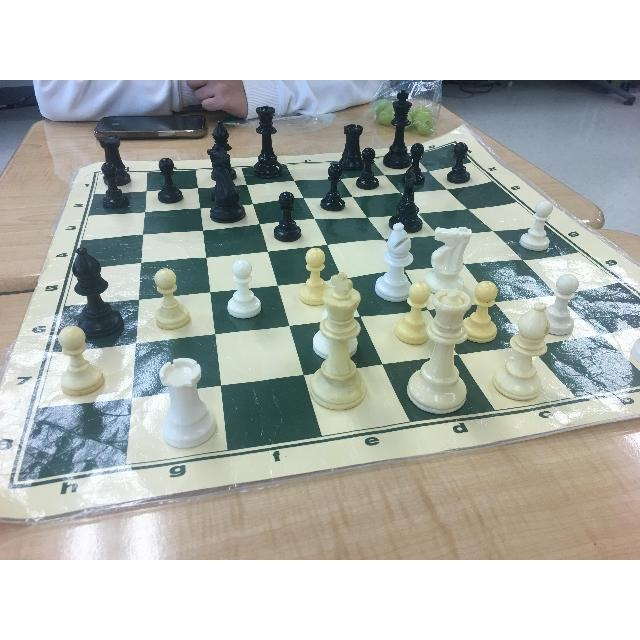black-bishop: (64, 251, 120, 328), (210, 121, 242, 183)
black-king: (384, 80, 414, 167), (395, 166, 423, 234)
black-knight: (204, 161, 244, 224)
black-pawn: (98, 158, 136, 212), (269, 189, 305, 240), (318, 158, 354, 207), (152, 151, 182, 198), (453, 146, 477, 190), (404, 144, 433, 179), (360, 146, 381, 191)
black-queen: (249, 104, 284, 182)
black-rook: (98, 132, 134, 174), (335, 123, 361, 165)
white-bishop: (505, 297, 553, 401), (380, 218, 410, 296)
white-king: (320, 272, 376, 408)
white-knight: (425, 219, 473, 299)
white-pawn: (48, 321, 124, 408), (140, 264, 197, 330), (221, 252, 267, 331), (548, 272, 588, 346), (296, 247, 338, 313), (399, 275, 430, 355), (468, 279, 502, 339), (521, 193, 554, 251)
white-queen: (425, 286, 476, 433)
white-rook: (147, 352, 222, 450)
